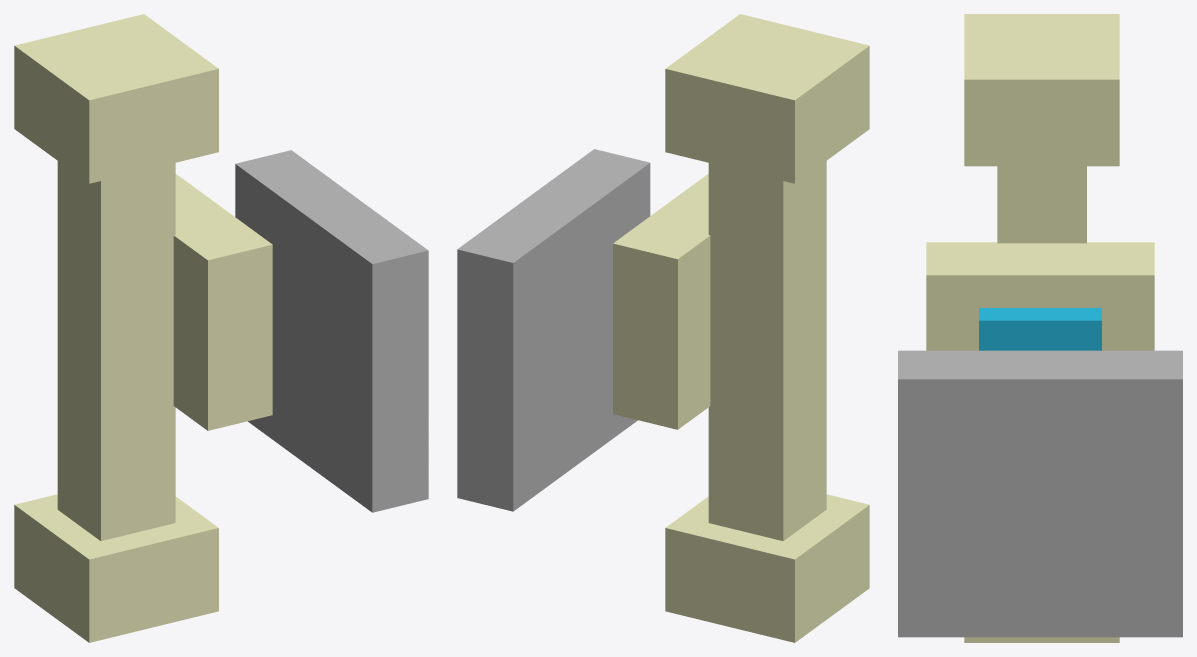
File: Pillar-Button.fbx
3 renders of one model, left to right at view 1: azimuth 30°, elevation 25°; view 2: azimuth 150°, elevation 25°; view 3: azimuth 270°, elevation 25°, orthographic. The views are drawn at different scales.
Visible parts, largest first — view 1: Pillar-Button, Cube-Trigger, Cube-ButtonHolder; view 2: Pillar-Button, Cube-Trigger, Cube-ButtonHolder; view 3: Cube-Trigger, Pillar-Button, Cube-ButtonHolder, Cube-Button.
Boxes of the visible parts, left/top/right/bottom form: Pillar-Button: left=14, top=14, right=218, bottom=642; Cube-Trigger: left=235, top=150, right=428, bottom=512; Cube-ButtonHolder: left=173, top=174, right=272, bottom=430; Pillar-Button: left=665, top=14, right=869, bottom=642; Cube-Trigger: left=457, top=149, right=650, bottom=511; Cube-ButtonHolder: left=613, top=174, right=710, bottom=429; Cube-Trigger: left=898, top=350, right=1182, bottom=637; Pillar-Button: left=964, top=14, right=1119, bottom=642; Cube-ButtonHolder: left=926, top=242, right=1154, bottom=350; Cube-Button: left=979, top=308, right=1101, bottom=350.
Size of the model in its own units: 2.37 by 1.83 by 4.
